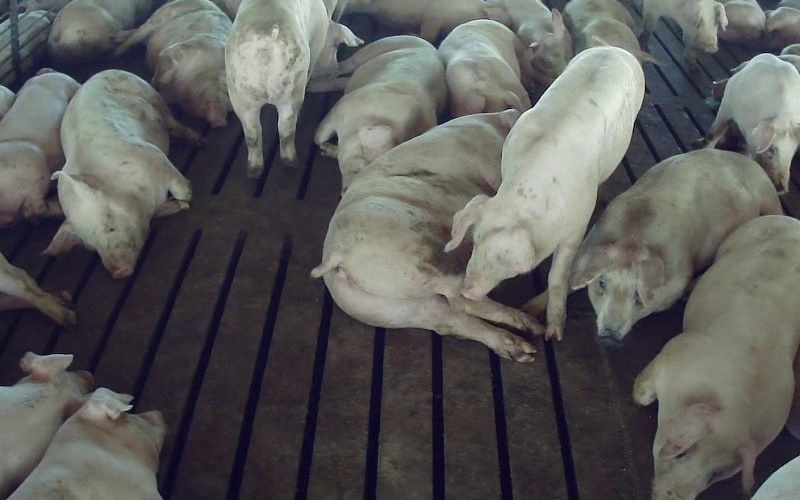pig: (446, 47, 643, 338), (633, 215, 799, 499), (570, 149, 781, 339), (44, 70, 200, 277), (311, 35, 447, 192), (8, 388, 165, 499), (115, 0, 231, 126), (0, 352, 93, 499), (706, 53, 799, 192), (0, 70, 79, 226), (439, 19, 530, 117), (489, 0, 572, 100), (344, 0, 510, 42), (47, 0, 153, 64), (640, 0, 727, 69), (563, 0, 656, 63)
